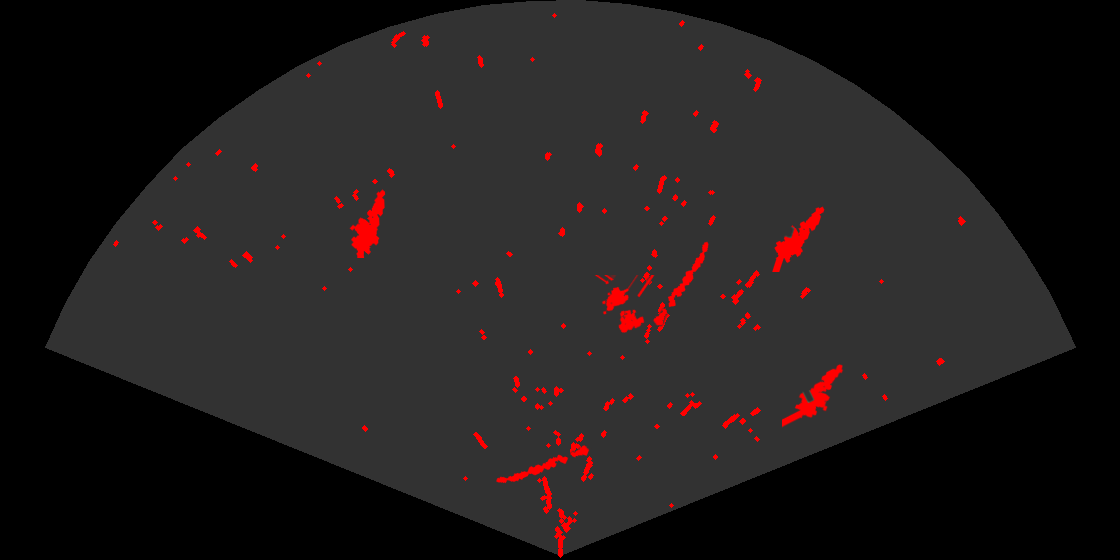cage: (593, 275, 656, 335)
chain: (652, 240, 710, 327), (495, 444, 592, 485)
frogman: (782, 362, 845, 428), (771, 205, 826, 272), (348, 188, 387, 258)
